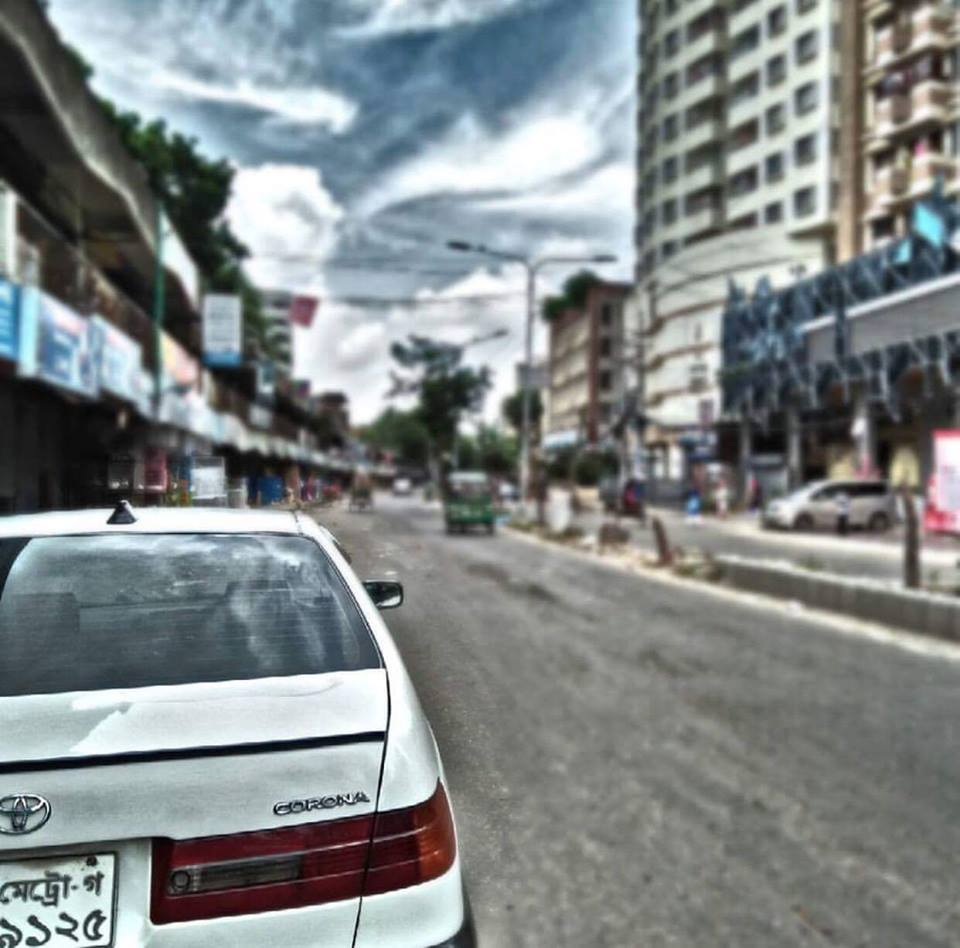registration_plate: (1, 850, 120, 948)
